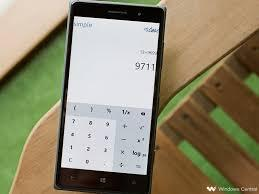Calculator: (57, 59, 152, 177)
